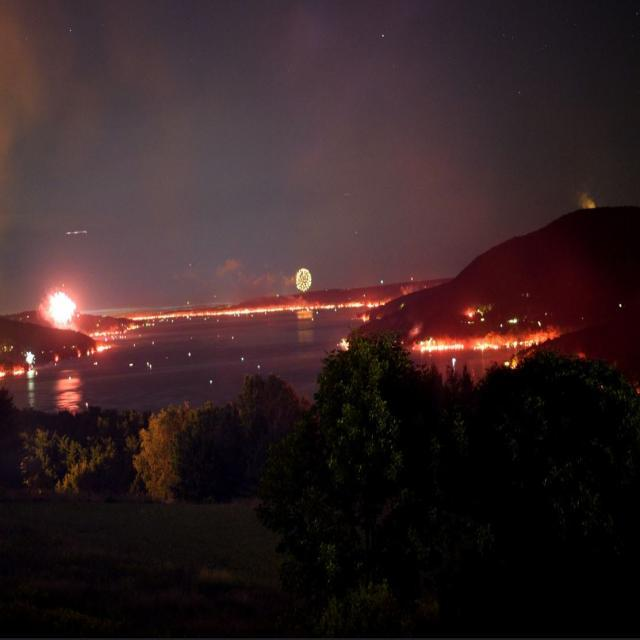Fire: (123, 292, 390, 312), (408, 326, 561, 350), (41, 282, 78, 330), (89, 318, 140, 336), (2, 365, 26, 378), (333, 335, 351, 351), (86, 343, 112, 353), (506, 353, 521, 370), (461, 308, 485, 318), (54, 350, 60, 363), (76, 348, 82, 358)
